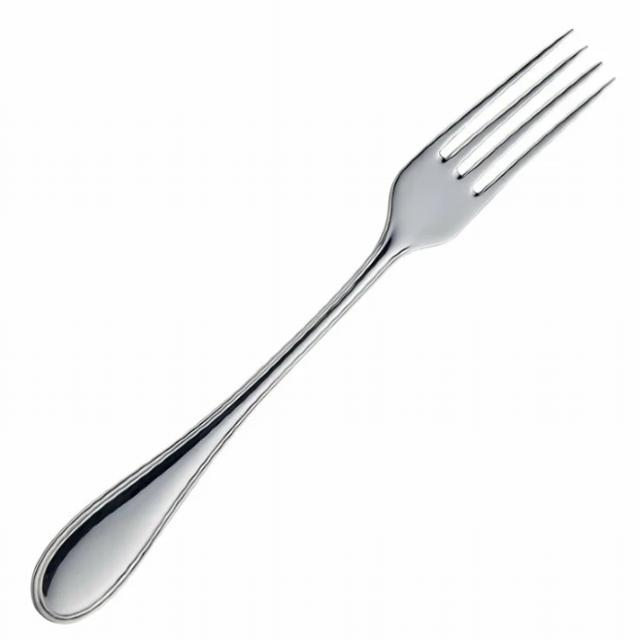fork: (19, 25, 624, 628)
